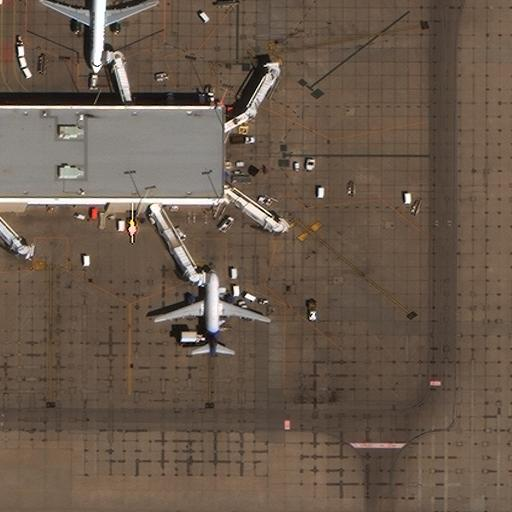Medium Civil Transport: (153, 269, 270, 357), (38, 0, 157, 73)
